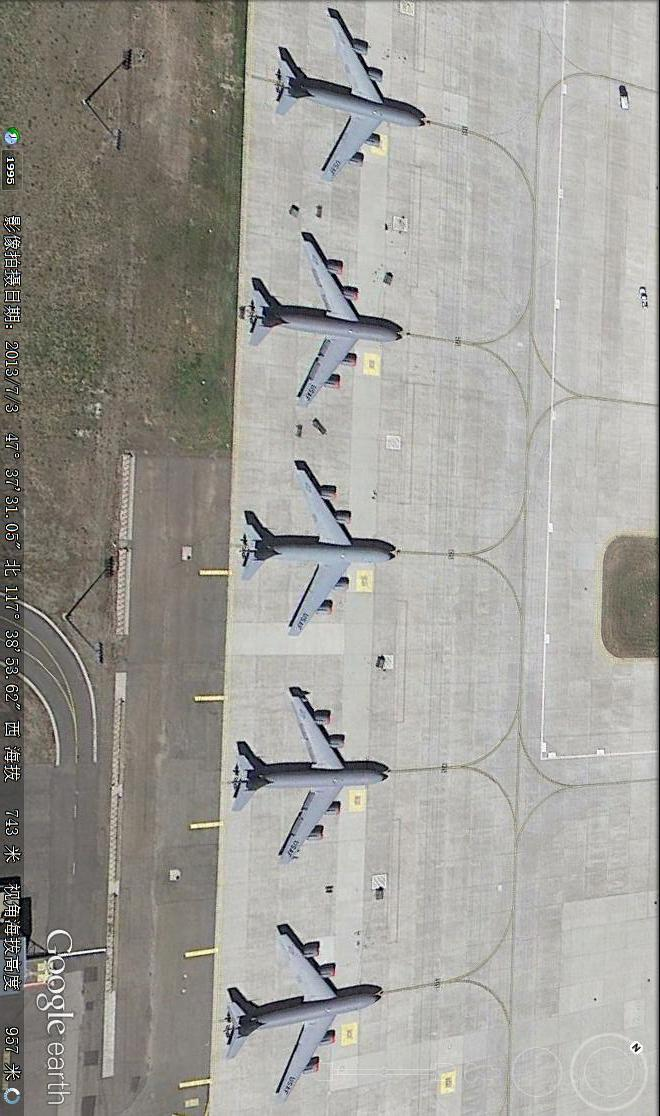KC-135: (237, 457, 404, 640), (228, 685, 393, 869), (225, 919, 389, 1095), (246, 234, 410, 405), (269, 15, 428, 176)
